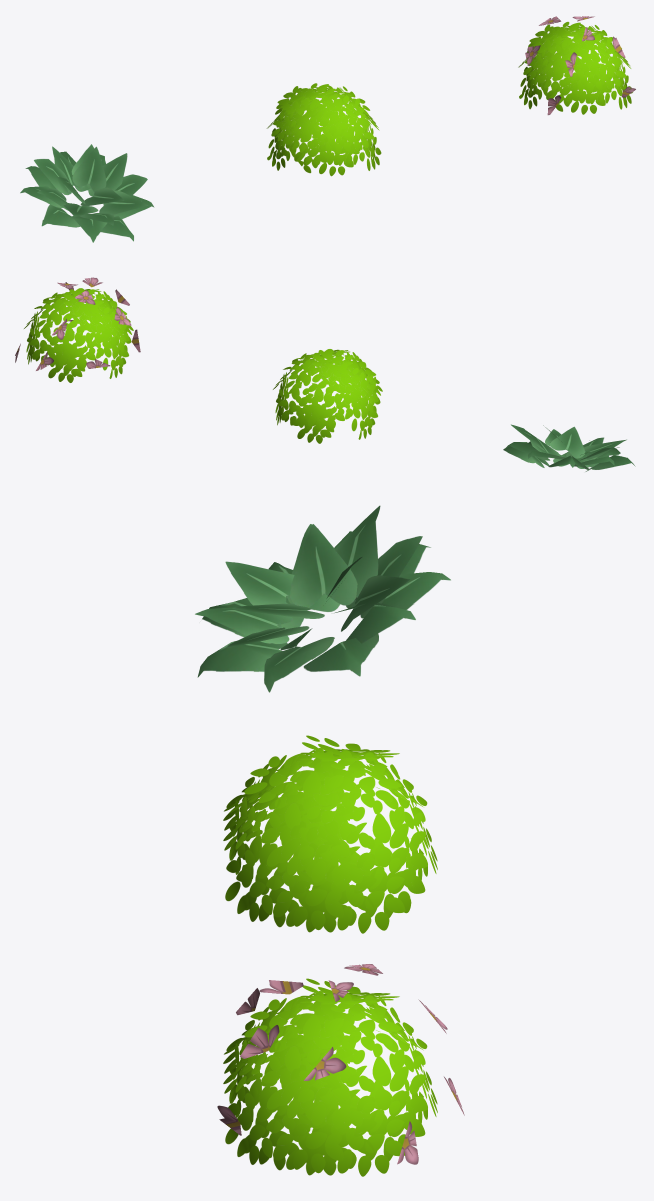
File: bush_2.glb
3 views of the same model, one above another, from view 1: azimuth 30°, elevation 25°; view 2: azimuth 150°, elevation 25°; view 3: azimuth 270°, elevation 25° (orthographic). The views are drawn at different scales.
Visible parts, largest first — view 1: Bush_Flowers, Bush, Plant_1; view 2: Bush_Flowers, Bush, Plant_1; view 3: Bush_Flowers, Bush, Plant_1.
Part boxes in pixels (x1,y1,x2,y2): Bush_Flowers: [518, 16, 635, 115]; Bush: [266, 83, 381, 176]; Plant_1: [20, 144, 154, 242]; Bush_Flowers: [15, 277, 140, 382]; Bush: [273, 349, 382, 443]; Plant_1: [503, 424, 635, 471]; Bush_Flowers: [217, 964, 464, 1176]; Bush: [223, 735, 437, 933]; Plant_1: [195, 505, 450, 692].
Bounding box in the file's own units: 6.03 × 0.7975 × 1.22.
Materials: 2 (2 with a texture image).
